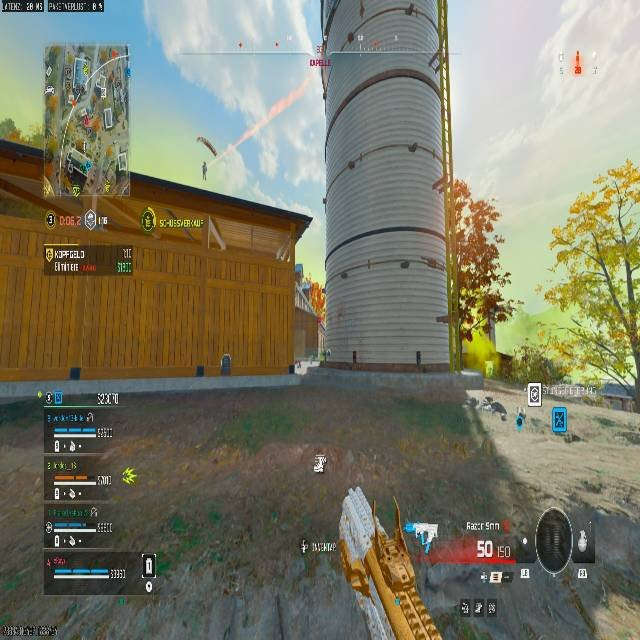player: (515, 409, 525, 431)
